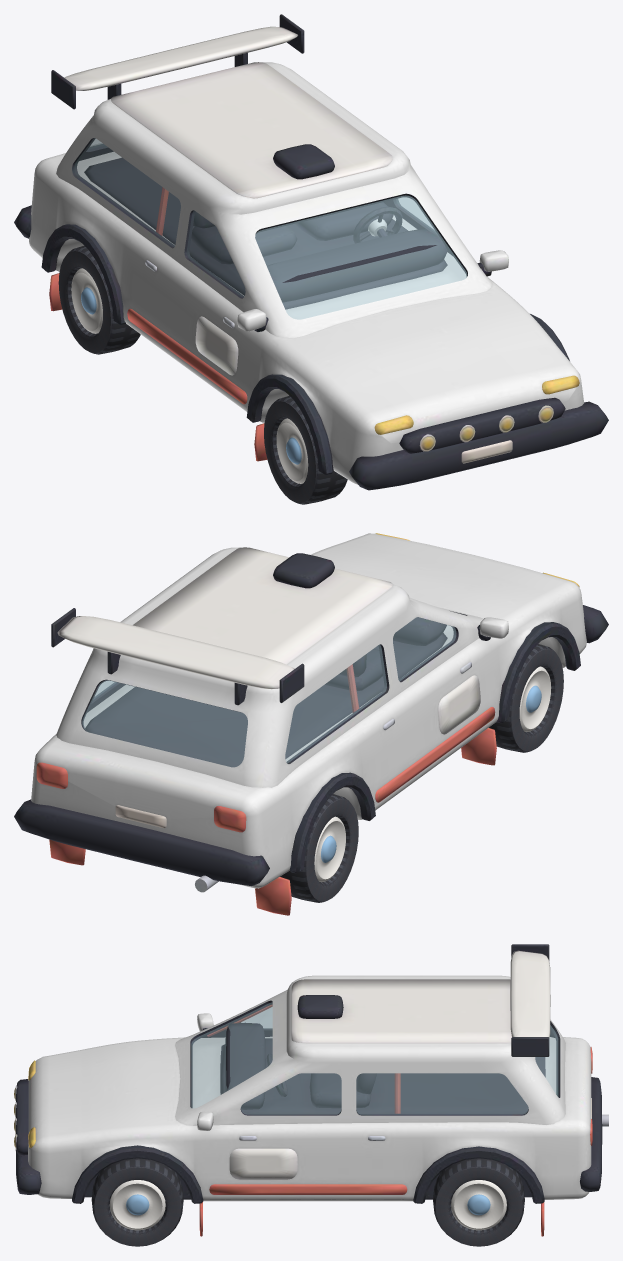
File: hatch.glb
3 views of the same model, one above another, from view 1: azimuth 30°, elevation 25°; view 2: azimuth 150°, elevation 25°; view 3: azimuth 270°, elevation 25° (orthographic). The views are drawn at different scales.
Parts seen in each view (by area): view 1: rally-car_body, rally-car_windows, rally-car_wheel_fr, rally-car_wheel_rr; view 2: rally-car_body, rally-car_windows, rally-car_wheel_rr, rally-car_wheel_fr; view 3: rally-car_body, rally-car_windows, rally-car_wheel_fl, rally-car_wheel_rl.
Part boxes in pixels (x1,y1,x2,y2): rally-car_body: (14, 14, 608, 490); rally-car_windows: (74, 138, 466, 319); rally-car_wheel_fr: (264, 395, 347, 504); rally-car_wheel_rr: (58, 245, 140, 354); rally-car_body: (14, 533, 608, 915); rally-car_windows: (82, 617, 456, 766); rally-car_wheel_rr: (280, 794, 358, 902); rally-car_wheel_fr: (489, 644, 563, 752); rally-car_body: (14, 944, 608, 1236); rally-car_windows: (191, 1002, 557, 1114); rally-car_wheel_fl: (91, 1158, 183, 1246); rally-car_wheel_rl: (433, 1158, 524, 1246).
Bounding box in the file's own units: 1.9 × 1.69 × 4.39.
Materials: 6 (2 with a texture image).
